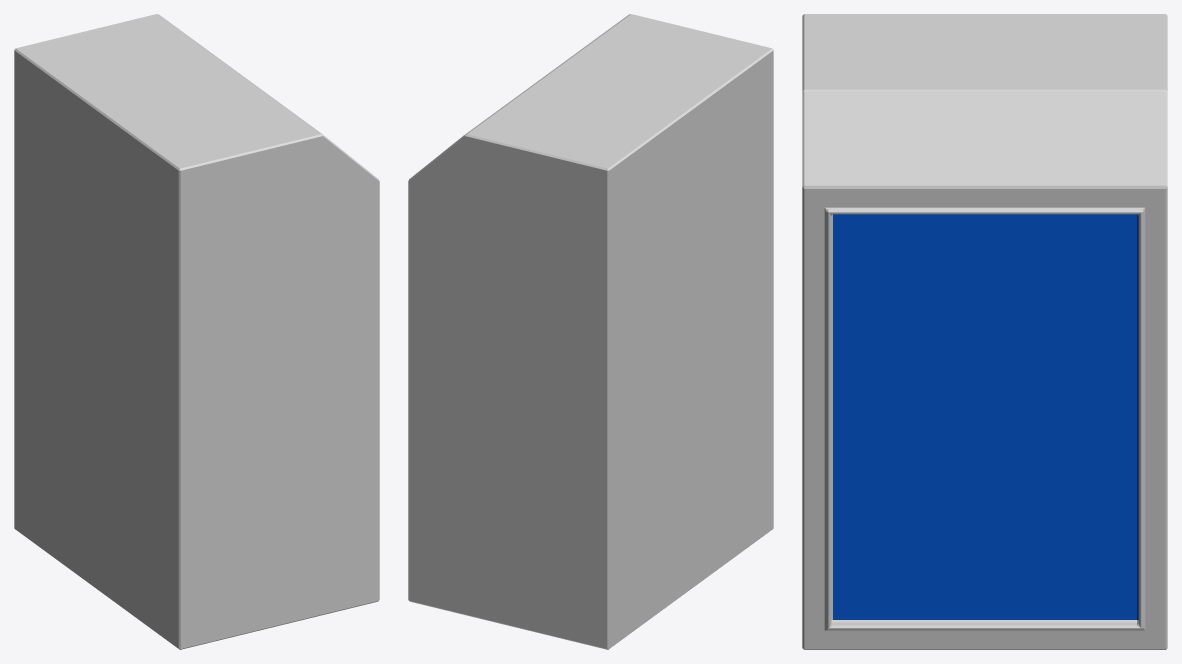
File: BoutonPorte.fbx
3 views of the same model, side by side, from view 1: azimuth 30°, elevation 25°; view 2: azimuth 150°, elevation 25°; view 3: azimuth 270°, elevation 25° (orthographic). The views are drawn at different scales.
Parts seen in each view (by area): view 1: BoutonPorte.001; view 2: BoutonPorte.001; view 3: BoutonPorte.001.
Part boxes in pixels (x1,y1,x2,y2): BoutonPorte.001: (14,14,379,649); BoutonPorte.001: (408,14,773,649); BoutonPorte.001: (802,14,1167,649).
Size of the model in its own units: 71 by 160 by 100.
